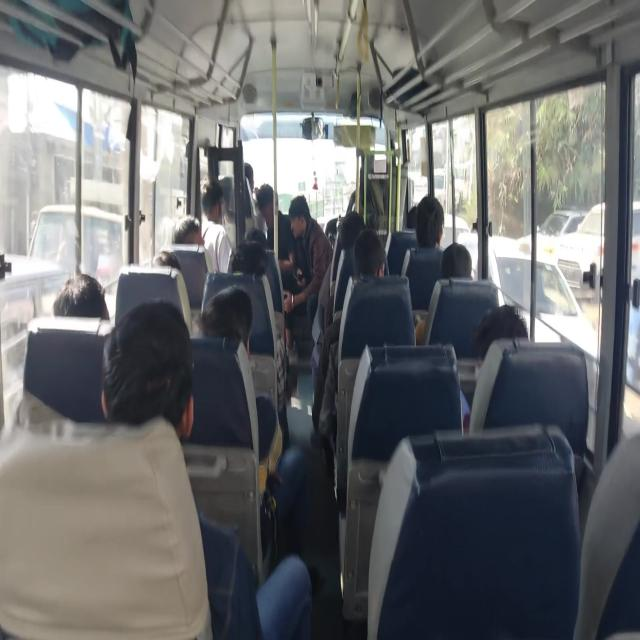person: (0, 300, 214, 638), (101, 299, 312, 639), (200, 284, 308, 560), (315, 228, 389, 441), (458, 304, 528, 434), (282, 195, 332, 350), (414, 242, 473, 344), (401, 194, 445, 312), (256, 182, 296, 288), (200, 284, 252, 358), (200, 176, 233, 273), (52, 273, 110, 321), (171, 214, 214, 274), (414, 194, 444, 249), (440, 242, 472, 279), (171, 213, 204, 244)
